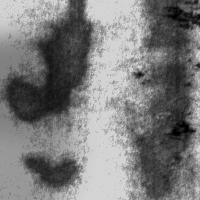patches: (11, 1, 94, 121), (0, 76, 74, 200), (0, 33, 77, 137), (138, 62, 194, 197), (141, 1, 194, 64), (21, 149, 78, 189)
